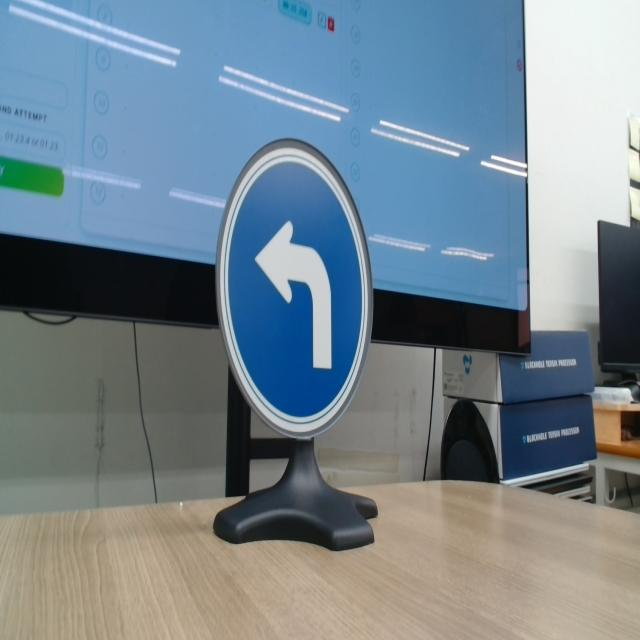left_direction: (212, 122, 394, 450)
